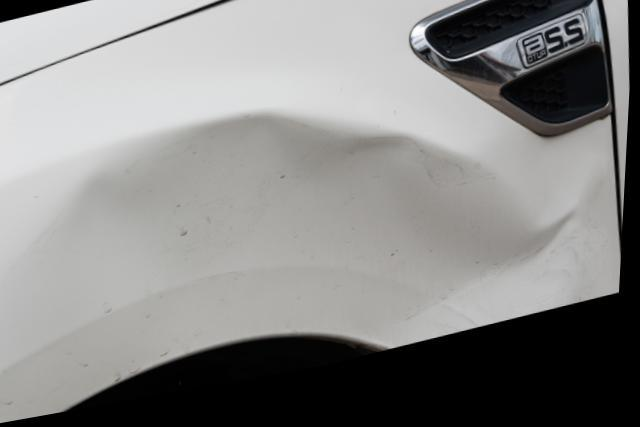dent: (0, 121, 618, 419)
